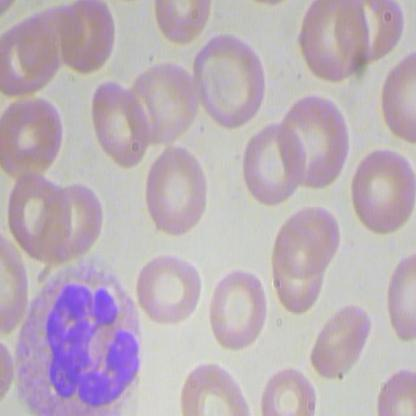RBC: (190, 29, 269, 133), (276, 92, 350, 193), (296, 1, 373, 88), (137, 144, 209, 235), (305, 293, 376, 384), (344, 146, 415, 237), (135, 55, 206, 146), (239, 120, 306, 208), (1, 89, 66, 179), (203, 269, 275, 348), (6, 173, 72, 258), (271, 202, 345, 276), (270, 216, 325, 314), (90, 75, 149, 166), (135, 251, 202, 329)
WBC: (6, 252, 153, 415)
